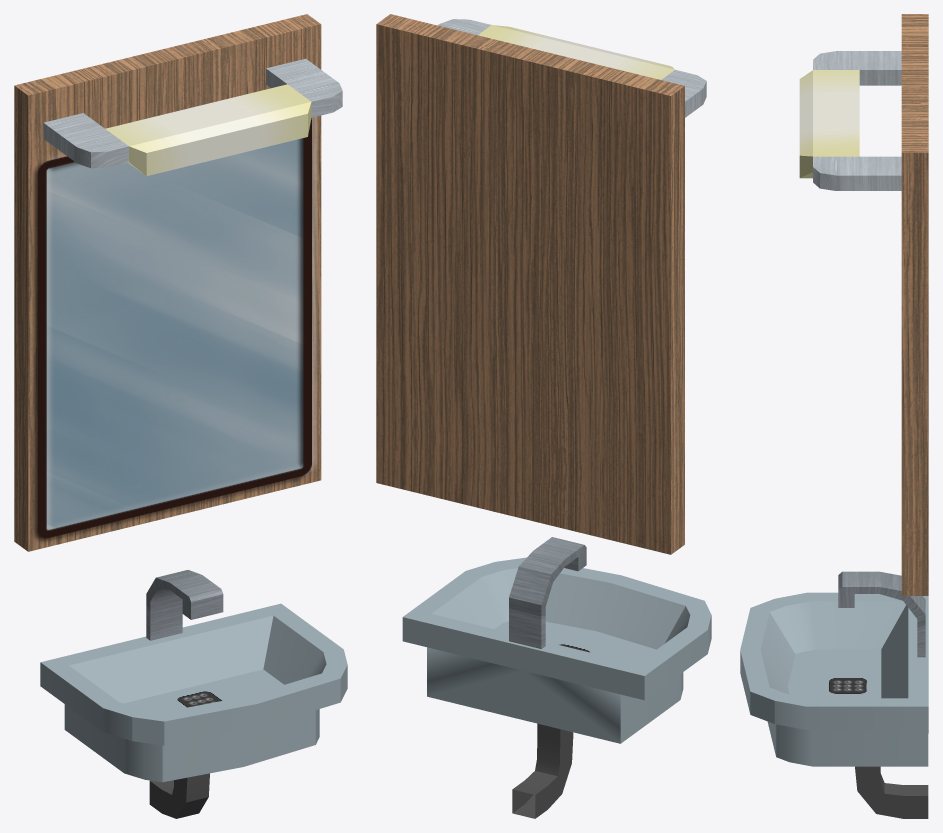
File: ModSink.fbx
The picture shows the model from 3 angles, left to right: view 1: azimuth 30°, elevation 25°; view 2: azimuth 150°, elevation 25°; view 3: azimuth 270°, elevation 25°; orthographic projection. The views are drawn at different scales.
Parts seen in each view (by area): view 1: Mod_MirrorSink1; view 2: Mod_MirrorSink1; view 3: Mod_MirrorSink1.
Part boxes in pixels (x1,y1,x2,y2): Mod_MirrorSink1: (14,14,347,818); Mod_MirrorSink1: (376,14,711,818); Mod_MirrorSink1: (740,14,928,818).
Size of the model in its own units: 1.22 by 2.98 by 0.6982.
1 material, 1 textured.
